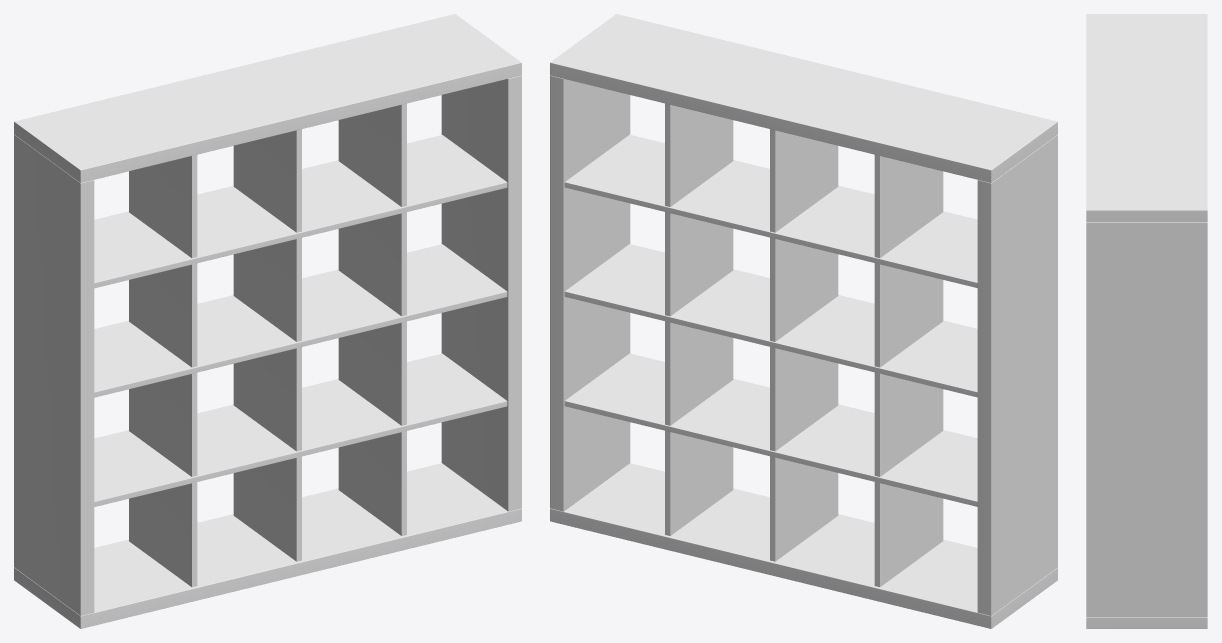
The model's file is Shelve_005_White.gltf.
3 views of the same model, side by side, from view 1: azimuth 30°, elevation 25°; view 2: azimuth 150°, elevation 25°; view 3: azimuth 270°, elevation 25° (orthographic). The views are drawn at different scales.
Parts seen in each view (by area): view 1: Shelve_005; view 2: Shelve_005; view 3: Shelve_005.
Part boxes in pixels (left/top/right/bottom): Shelve_005: left=14, top=14, right=521, bottom=628; Shelve_005: left=550, top=14, right=1057, bottom=628; Shelve_005: left=1086, top=14, right=1207, bottom=628.
Bounding box in the file's own units: 1.47 × 1.46 × 0.3843.
1 material, 1 textured.
